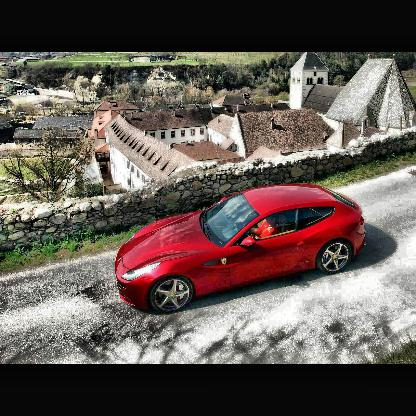Ferrari FF Coupe 2012: (115, 184, 366, 318)
